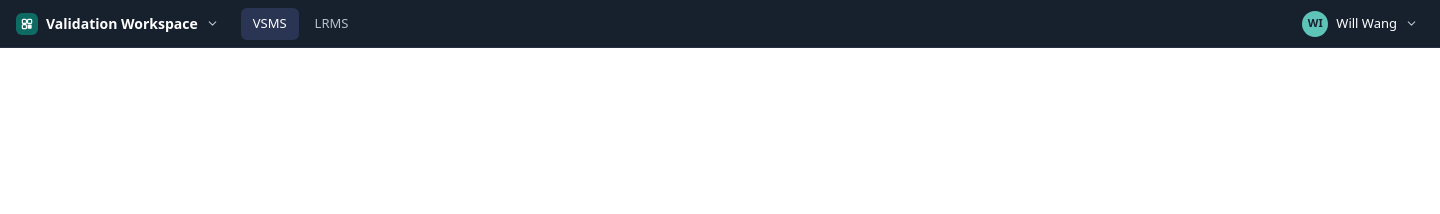
Topbar：使用者選單 › guest：標頭顯示名稱與「訪客（唯讀）」
This screenshot has width=1440, height=214.
What coordinates should you click on to do the following:
click the button with aria-label "使用者選單"
I would click on:
 (1361, 24)
Its box is [1298,8,1424,40].
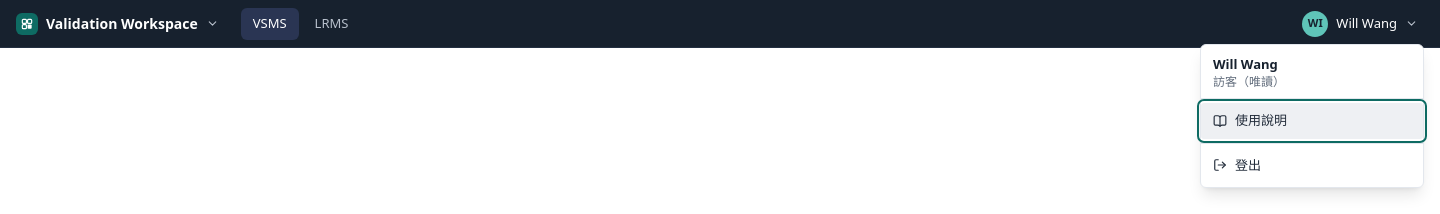
Now the 2nd text "Will Wang" is shown, box [1213,54,1278,72]
Now the text "訪客（唯讀）" is shown, box [1213,73,1285,90]
